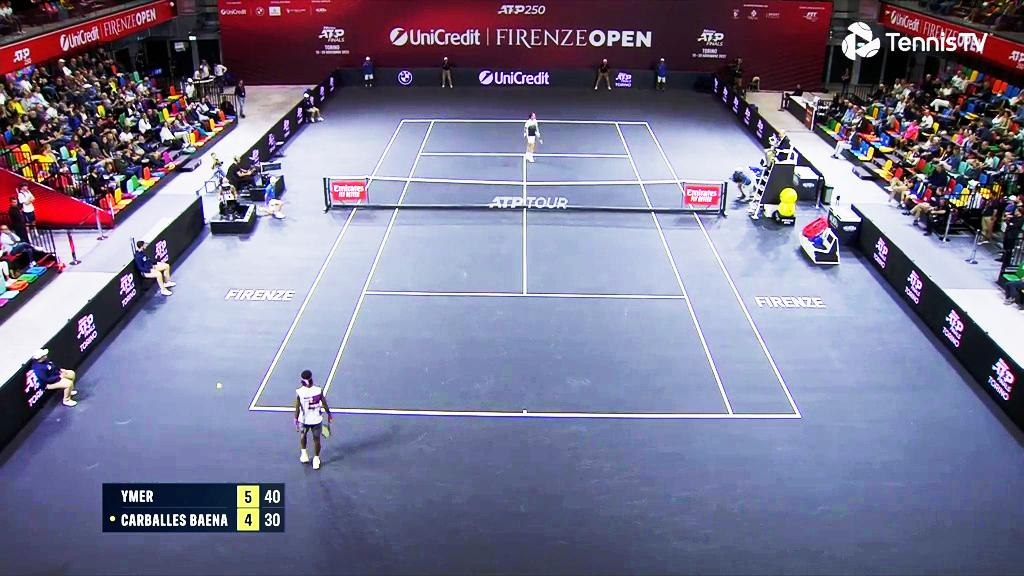tennis-court: (249, 120, 801, 417)
